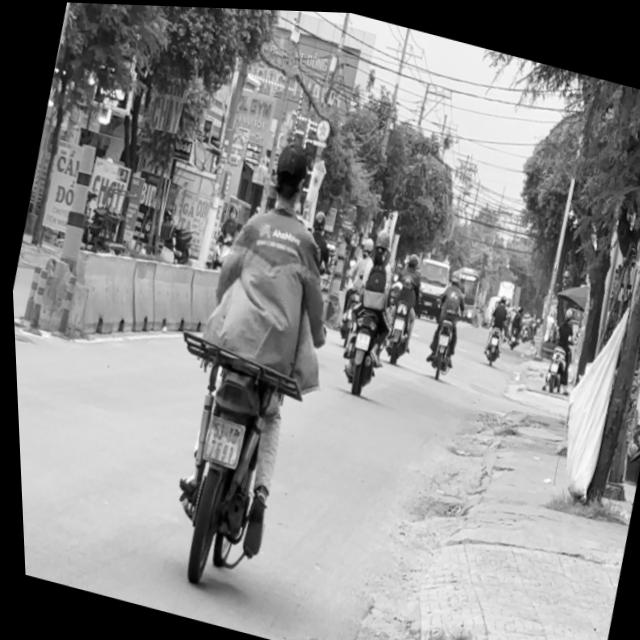licenseplate: (112, 112, 378, 606)
motorcyclist: (262, 134, 312, 207)
nohelmet: (193, 409, 242, 464)
